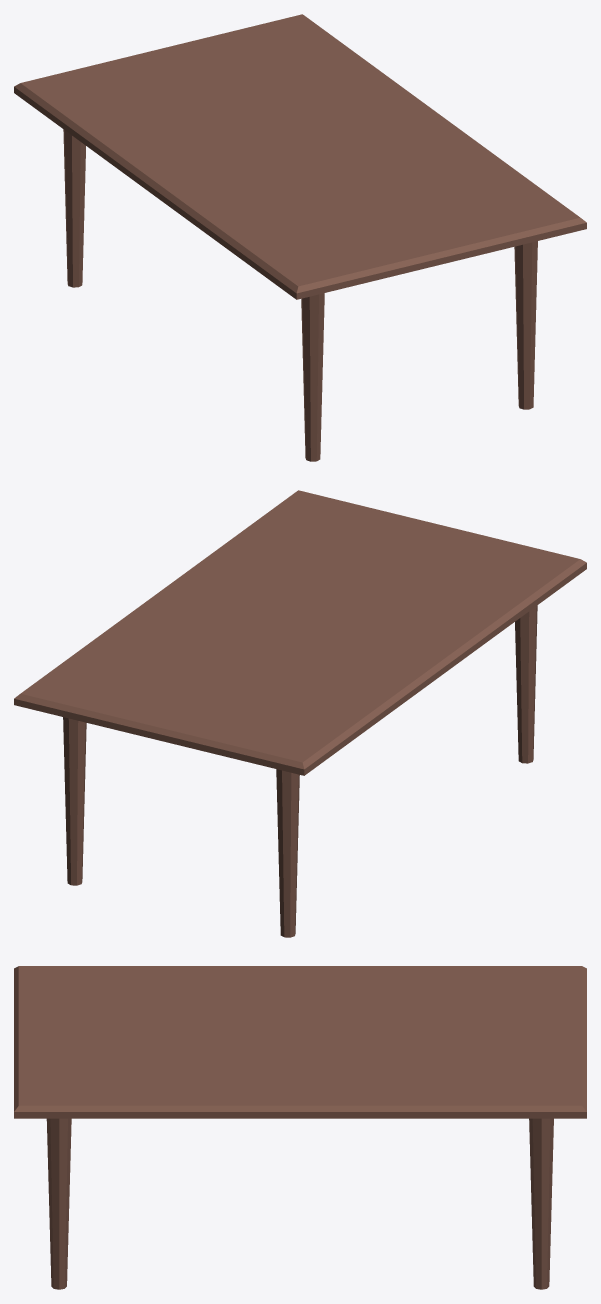
Rendered from table.glb.
The picture shows the model from 3 angles, top to bottom: view 1: azimuth 30°, elevation 25°; view 2: azimuth 150°, elevation 25°; view 3: azimuth 270°, elevation 25°; orthographic projection.
Parts seen in each view (by area): view 1: node-0; view 2: node-0; view 3: node-0.
Part boxes in pixels (<box>): node-0: <box>14,14,586,461</box>; node-0: <box>14,490,586,937</box>; node-0: <box>14,966,586,1289</box>.
Size of the model in its own units: 11.74 by 7.54 by 19.8.
